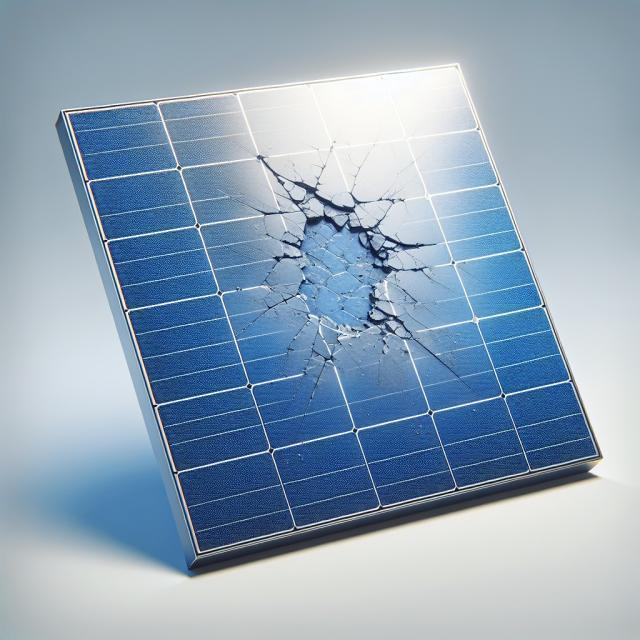Anomaly Solar Panel: (66, 9, 597, 559)
Structural Damage: (240, 173, 436, 348), (247, 151, 319, 217), (410, 332, 479, 399), (291, 352, 332, 431), (230, 289, 297, 337), (215, 187, 299, 224), (287, 326, 322, 397), (272, 316, 309, 378), (312, 142, 332, 189)
